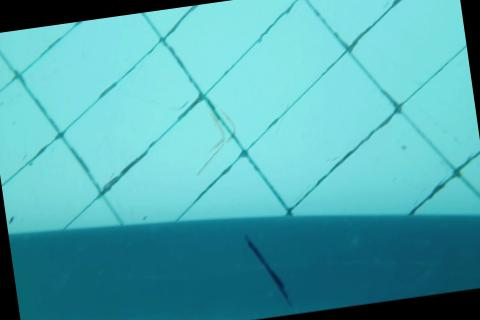keretakan: (244, 228, 293, 313)
